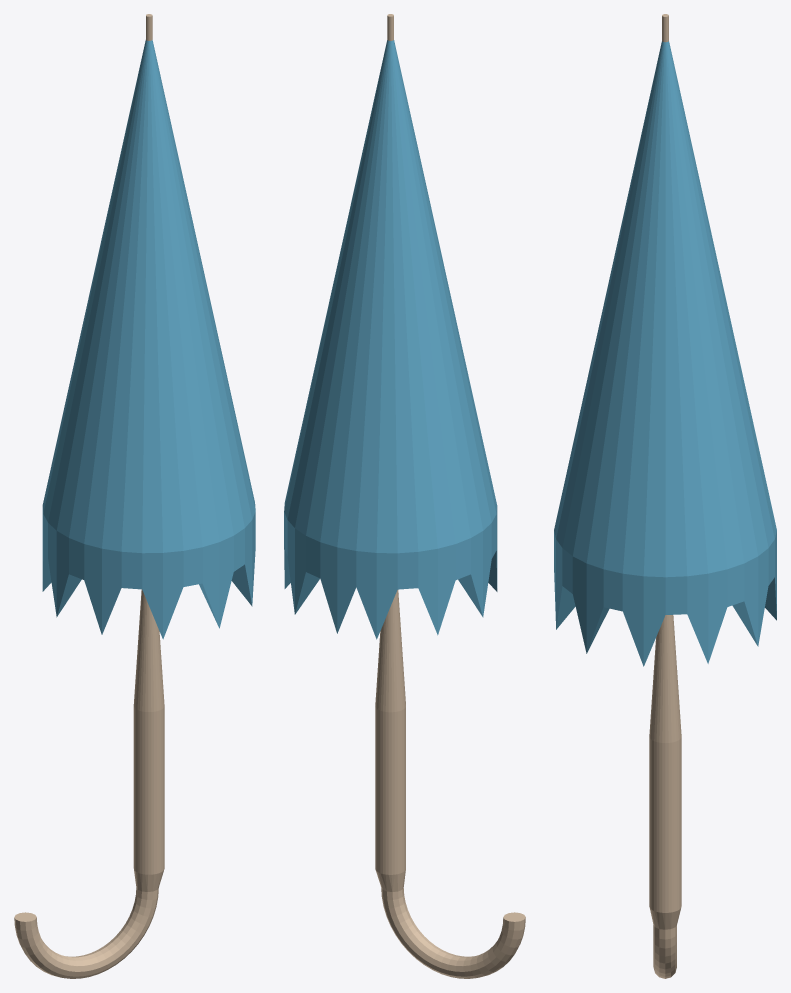
The model's file is Umbrella.fbx.
3 views of the same model, side by side, from view 1: azimuth 30°, elevation 25°; view 2: azimuth 150°, elevation 25°; view 3: azimuth 270°, elevation 25° (orthographic). The views are drawn at different scales.
Visible parts, largest first — view 1: item-umbrella; view 2: item-umbrella; view 3: item-umbrella.
Boxes of the visible parts, x1,y1,x2,y2 form: item-umbrella: (14, 14, 255, 978); item-umbrella: (284, 14, 525, 978); item-umbrella: (554, 14, 776, 978).
Size of the model in its own units: 97.77 by 391 by 80.
